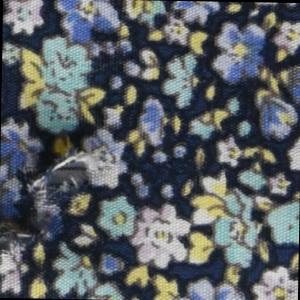Damage: (1, 136, 125, 274)
